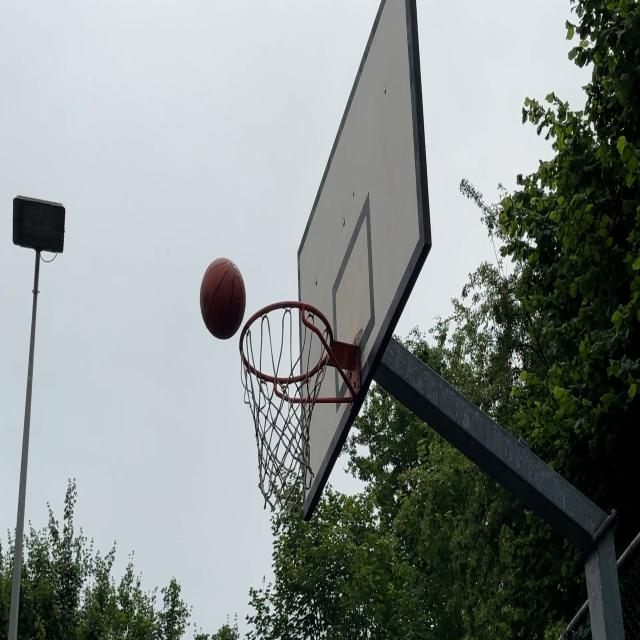Basketball: (201, 258, 246, 340)
